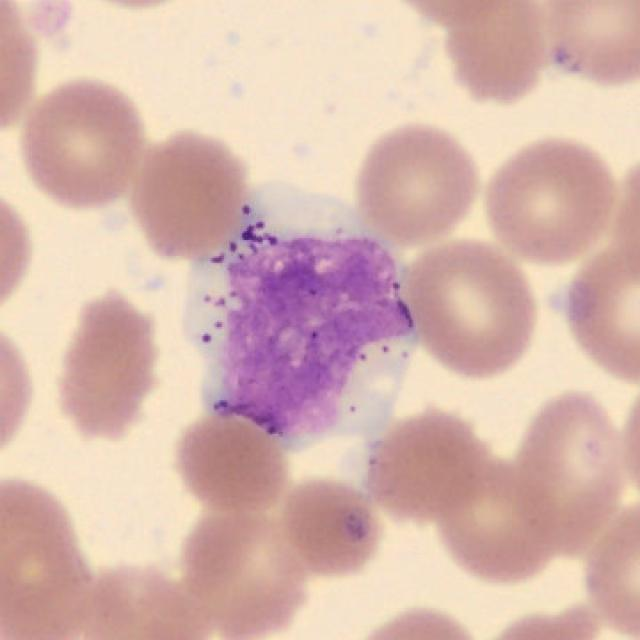Linfocito atipico: (185, 183, 416, 457)
